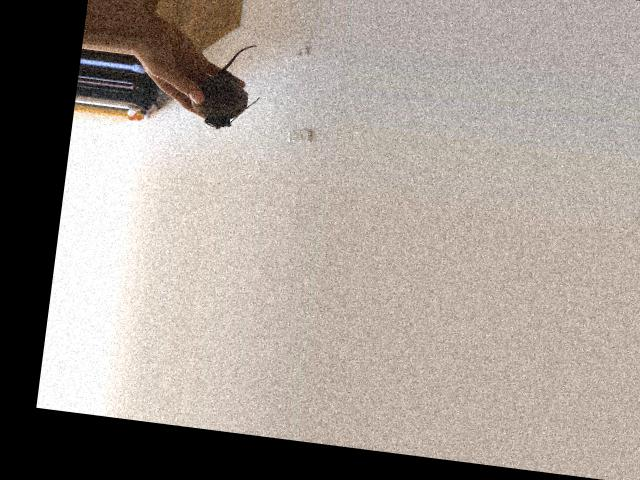beet: (187, 37, 267, 134)
